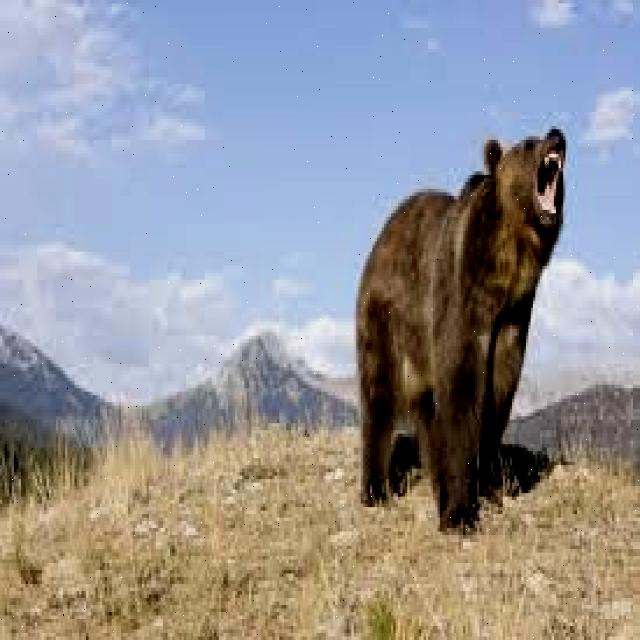bear: (365, 95, 574, 558)
